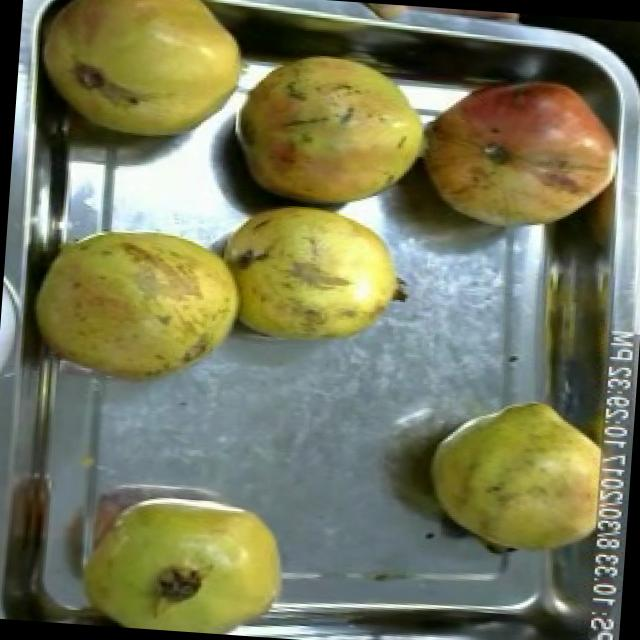fruit: (17, 210, 259, 402), (406, 58, 634, 247), (57, 473, 303, 639), (214, 39, 441, 218), (413, 386, 628, 568), (23, 0, 258, 162), (216, 195, 424, 358)
